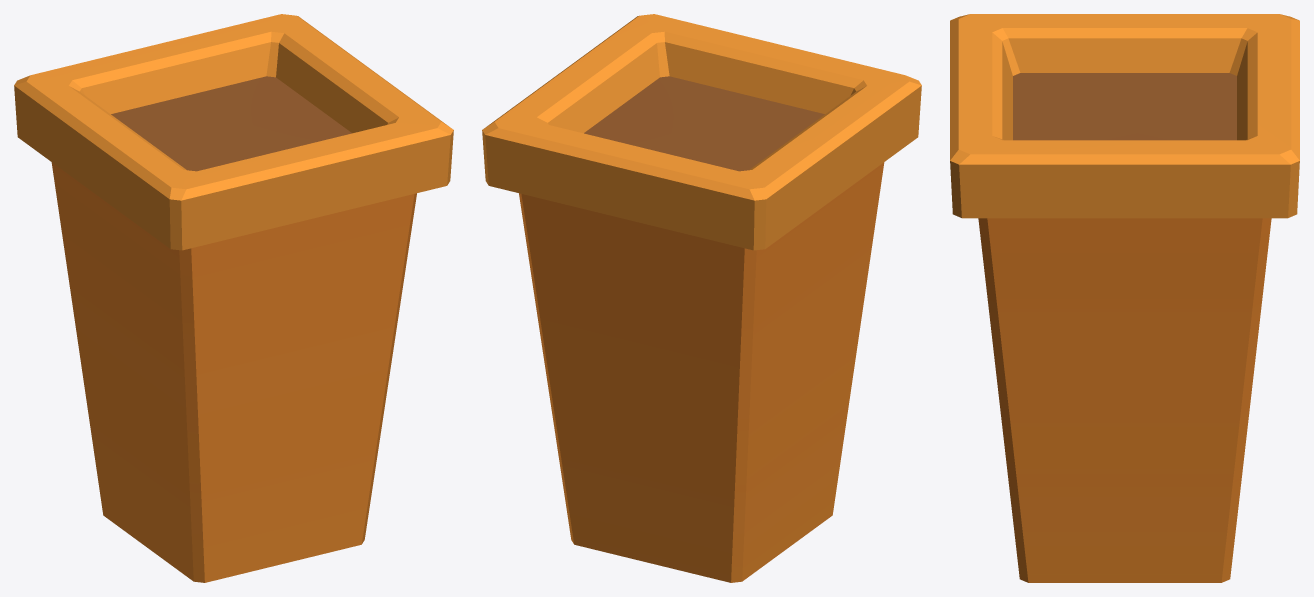
Rendered from PlantPot_2_C.glb.
3 renders of one model, left to right at view 1: azimuth 30°, elevation 25°; view 2: azimuth 150°, elevation 25°; view 3: azimuth 270°, elevation 25°, orthographic. The views are drawn at different scales.
Visible parts, largest first — view 1: PlantPot_2_C; view 2: PlantPot_2_C; view 3: PlantPot_2_C.
Boxes of the visible parts, bbox=[...] form: PlantPot_2_C: bbox=[14, 14, 453, 582]; PlantPot_2_C: bbox=[482, 14, 921, 582]; PlantPot_2_C: bbox=[950, 14, 1299, 582].
Bounding box in the file's own units: 0.3624 × 0.5192 × 0.3624.
Materials: 1 (1 with a texture image).
